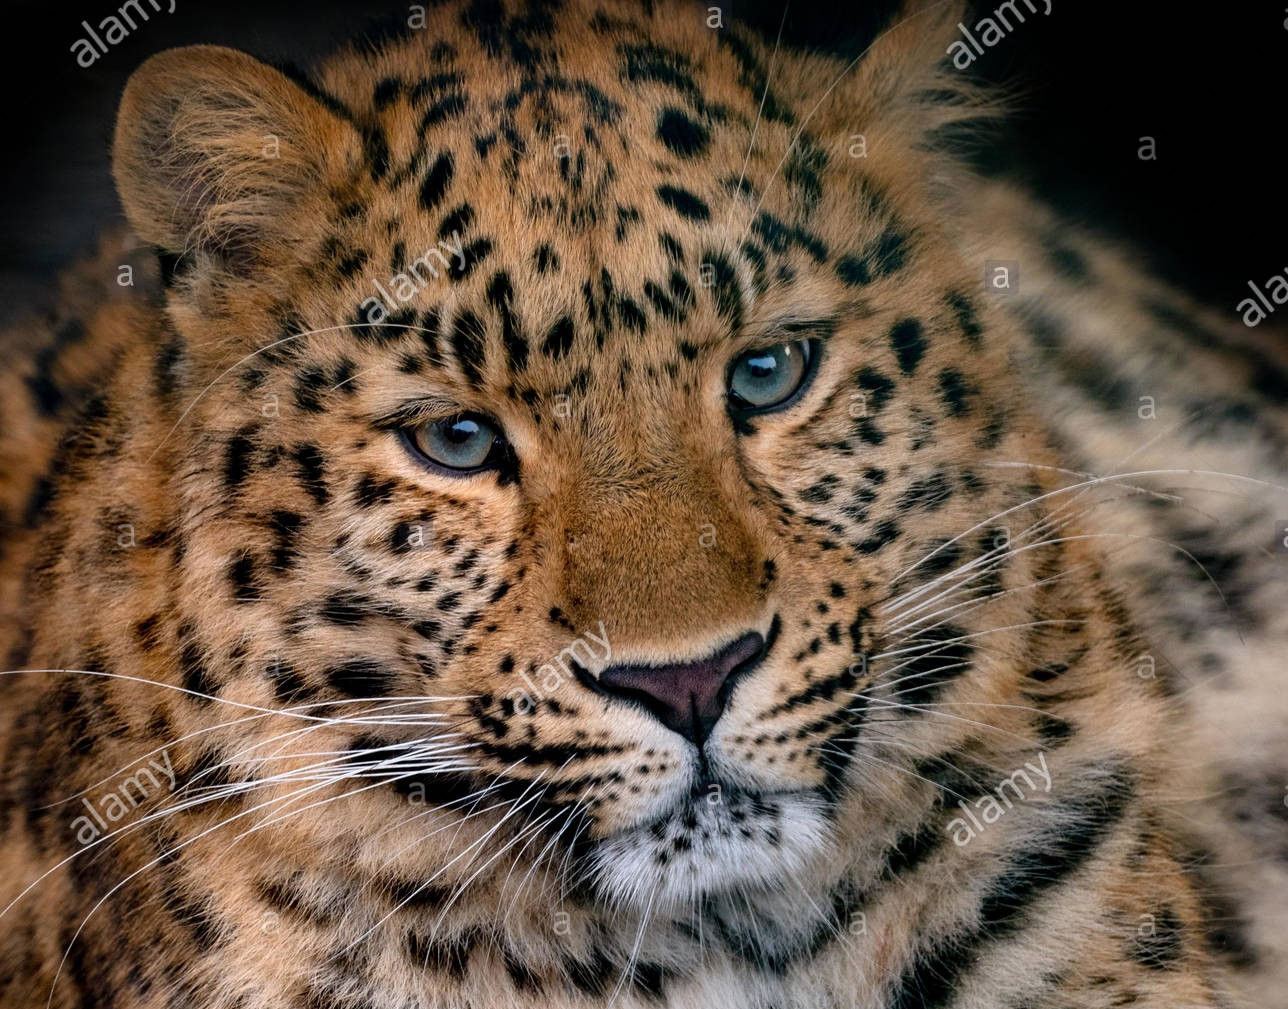amur_leopard: (111, 40, 1154, 892)
